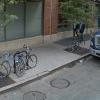Bicycle: (2, 45, 39, 82)
